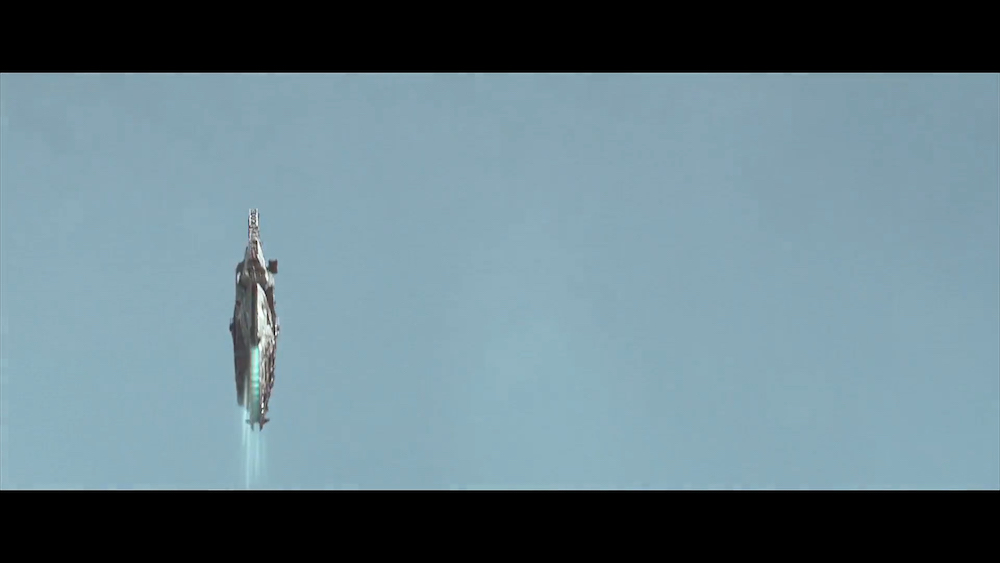Millennium Falcon: (229, 209, 283, 434)
